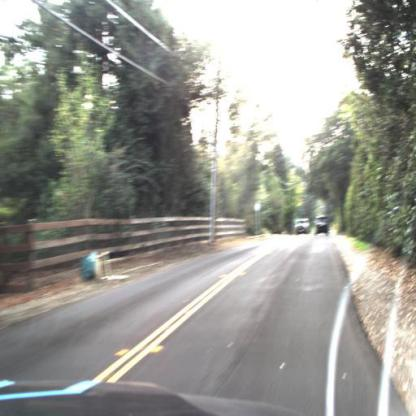car: (315, 215, 331, 238), (295, 215, 311, 236)
